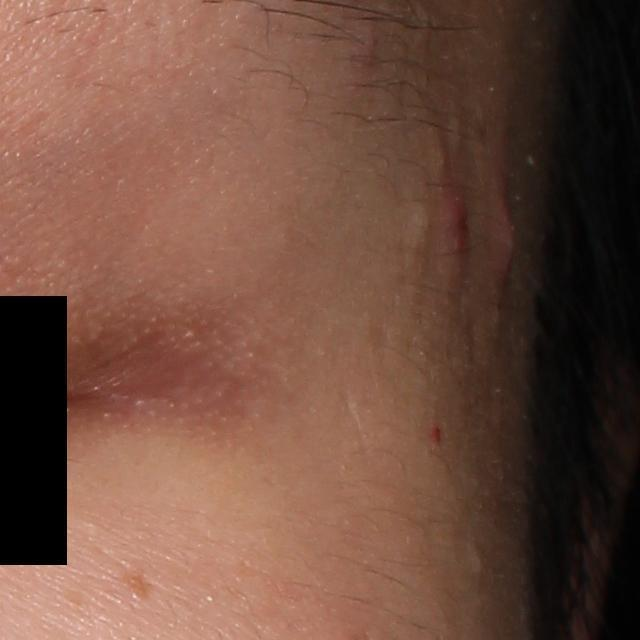comedo: (470, 546, 491, 573)
melasma: (117, 561, 157, 603)
papule: (489, 165, 524, 290), (438, 190, 469, 259)
